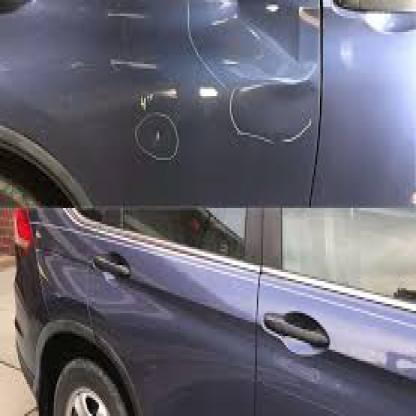dent: (226, 78, 318, 151), (132, 107, 183, 172)
